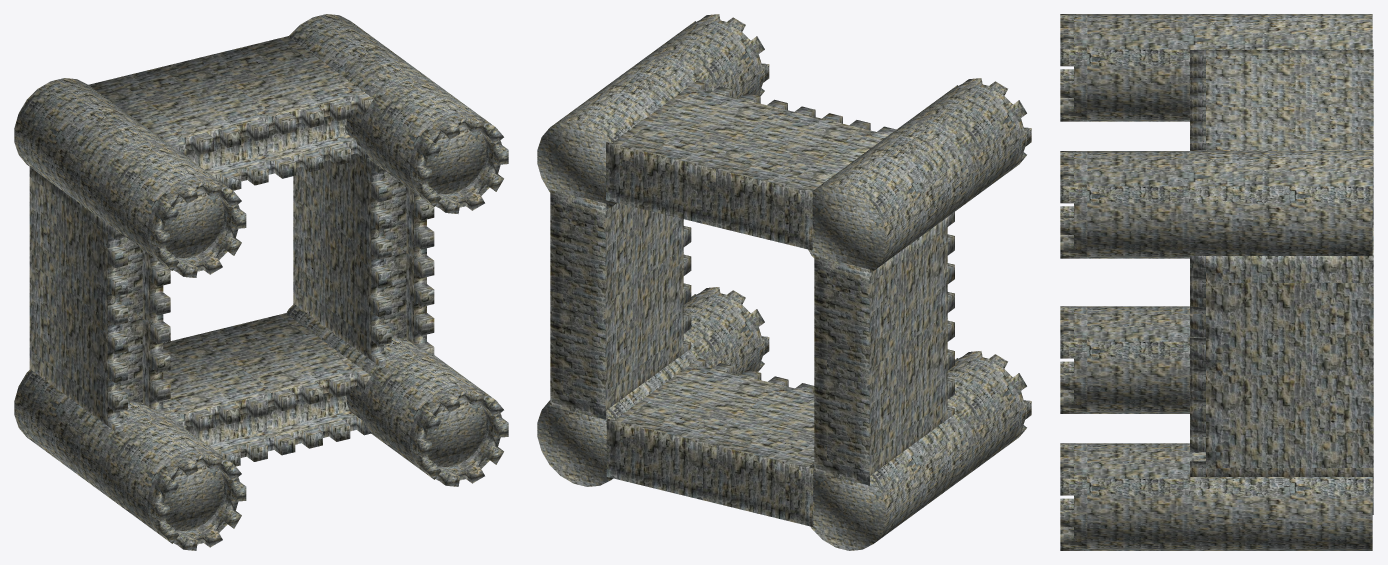
File: mainBuild.fbx
3 renders of one model, left to right at view 1: azimuth 30°, elevation 25°; view 2: azimuth 150°, elevation 25°; view 3: azimuth 270°, elevation 25°, orthographic. The views are drawn at different scales.
Parts seen in each view (by area): view 1: Cube.001, Cube.002, Cylinder, Cube, Cube.003, Cylinder.001, Cylinder.002, Cylinder.003; view 2: Cube.001, Cube.002, Cube, Cube.003, Cylinder, Cylinder.001, Cylinder.002, Cylinder.003; view 3: Cube, Cylinder.002, Cylinder.003, Cylinder, Cube.002, Cylinder.001.
Boxes of the visible parts, x1=… form: Cube.001: x1=29, y1=167, x2=170, y2=431; Cube.002: x1=88, y1=36, x2=373, y2=190; Cylinder: x1=14, y1=78, x2=246, y2=277; Cube: x1=293, y1=153, x2=434, y2=365; Cube.003: x1=163, y1=313, x2=371, y2=466; Cylinder.001: x1=14, y1=369, x2=246, y2=550; Cylinder.002: x1=288, y1=14, x2=508, y2=213; Cylinder.003: x1=286, y1=304, x2=508, y2=486; Cube.001: x1=814, y1=212, x2=954, y2=485; Cube.002: x1=606, y1=81, x2=896, y2=250; Cube: x1=550, y1=190, x2=691, y2=419; Cube.003: x1=606, y1=358, x2=814, y2=526; Cylinder: x1=808, y1=78, x2=1031, y2=272; Cylinder.001: x1=809, y1=351, x2=1031, y2=550; Cylinder.002: x1=537, y1=14, x2=769, y2=209; Cylinder.003: x1=537, y1=287, x2=769, y2=486; Cube: x1=1190, y1=223, x2=1373, y2=483; Cylinder.002: x1=1060, y1=151, x2=1372, y2=258; Cylinder.003: x1=1060, y1=443, x2=1372, y2=550; Cylinder: x1=1060, y1=14, x2=1372, y2=121; Cube.002: x1=1190, y1=49, x2=1373, y2=219; Cylinder.001: x1=1060, y1=306, x2=1205, y2=413.
Bounding box in the file's own units: 0.0799 × 0.0795 × 0.0581.
2 materials, 2 textured.
